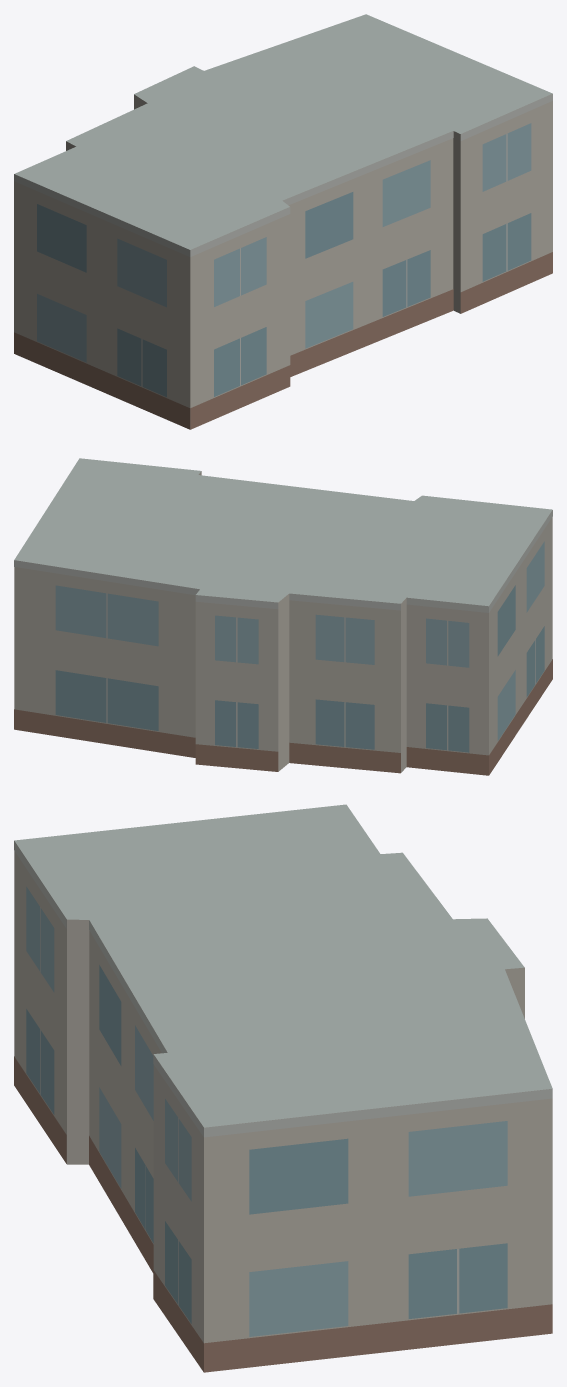
The model's file is survey-upis-32624090.glb.
3 renders of one model, top to bottom at view 1: azimuth 30°, elevation 25°; view 2: azimuth 150°, elevation 25°; view 3: azimuth 270°, elevation 25°, orthographic. The views are drawn at different scales.
Visible parts, largest first — view 1: survey-upis-32624090.tmp; view 2: survey-upis-32624090.tmp; view 3: survey-upis-32624090.tmp.
Boxes of the visible parts, x1=… form: survey-upis-32624090.tmp: x1=14, y1=14, x2=552, y2=429; survey-upis-32624090.tmp: x1=14, y1=458, x2=552, y2=775; survey-upis-32624090.tmp: x1=14, y1=804, x2=552, y2=1372.
Bounding box in the file's own units: 17.29 × 6.1 × 12.17.
